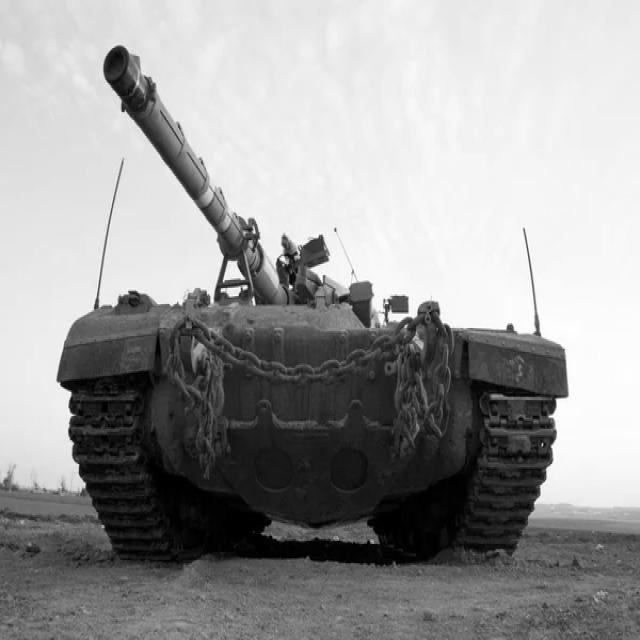Tank: (57, 44, 572, 561)
